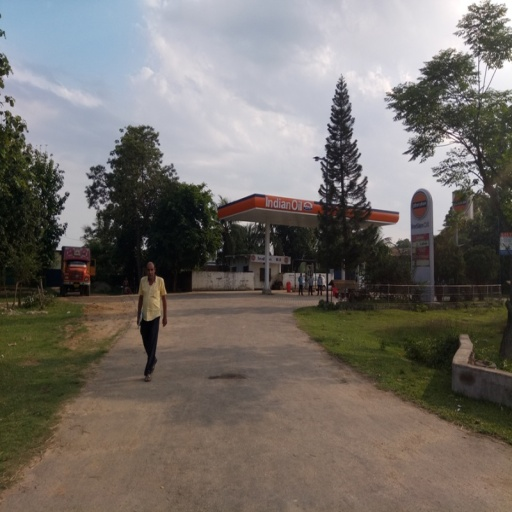roof: (217, 193, 399, 236)
